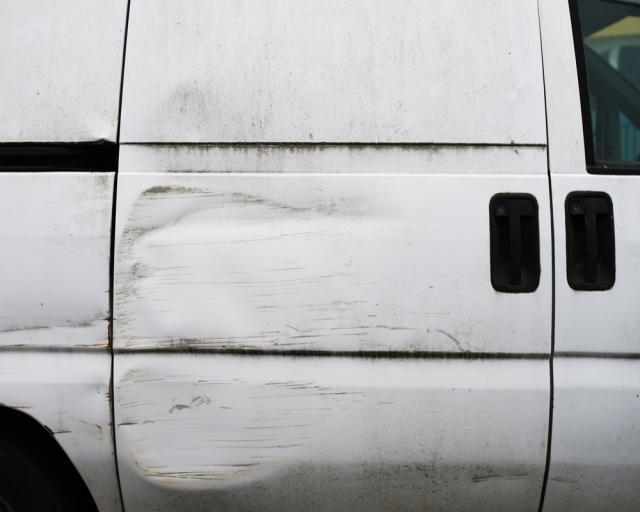dent: (115, 189, 392, 353), (119, 368, 314, 491)
